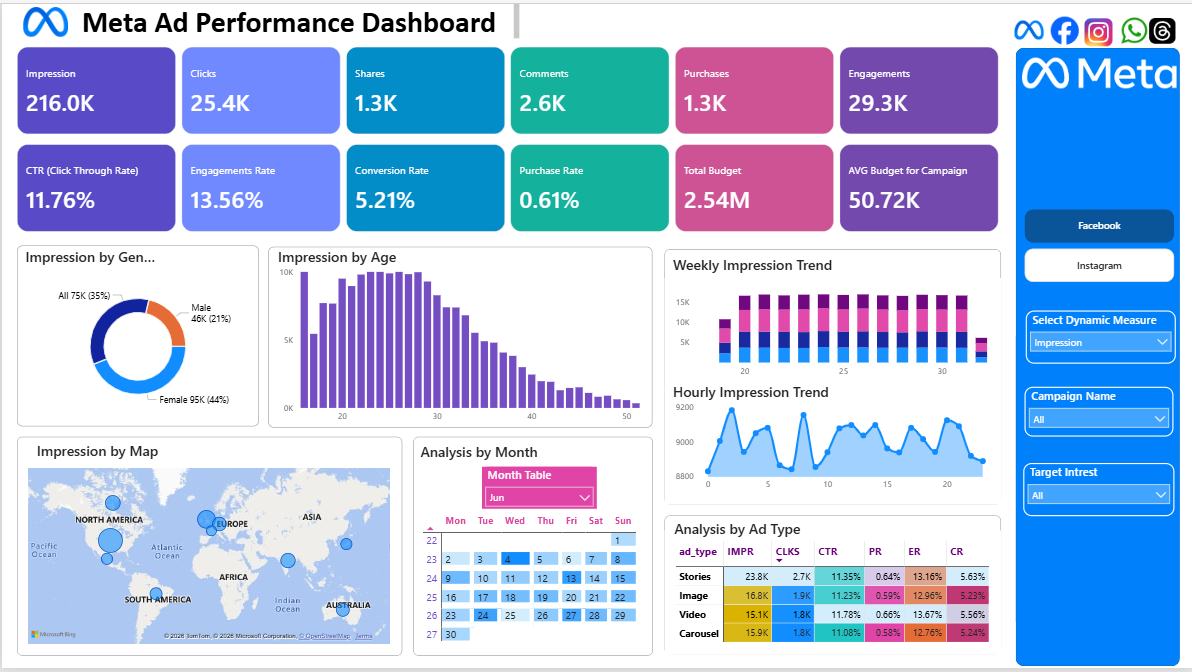

What the dashboard file says about the page in this screenshot:
{"tool":"powerbi","page":{"name":"Facebook","canvas":[1700,950],"ordinal":0},"visuals":[{"type":"textbox","box":[114.8,0,624.6,50.8],"z":0},{"type":"image","box":[29.5,1.6,63.9,50.8],"z":1000},{"type":"shape","box":[1447.3,62.9,238.8,887.4],"z":2000},{"type":"cardVisual","fields":{"Data":["ad_events.Impression","ad_events.Clicks","ad_events.Shares","ad_events.Comments","ad_events.Purchases","ad_events.Engagements"]},"box":[21,62.9,1406.9,125.8],"z":3000},{"type":"cardVisual","fields":{"Data":["ad_events.CTR (Click Through Rate)","ad_events.Engagements Rate","ad_events.Conversion Rate","ad_events.Purchase Rate","ad_events.Total Budget","ad_events.AVG Budget for Campaign"]},"box":[21,201.7,1406.9,125.8],"z":4000},{"type":"shape","box":[21.4,347,345.5,258.3],"z":5000},{"type":"slicer","fields":{"Values":["Select Dynamic Measure.Select Dynamic Measure"]},"box":[1461.8,438.9,214.6,75.8],"z":6000},{"type":"donutChart","fields":{"Category":["ads.target_gender"],"Y":["ad_events.Impression"]},"box":[21.4,385.2,345.5,210.9],"z":7000},{"type":"cardVisual","fields":{"Data":["ad_events.Gender Title"]},"box":[20.8,336.2,219.1,49.1],"z":8000},{"type":"shape","box":[380.6,348.5,548.7,258.3],"z":9000},{"type":"columnChart","fields":{"Category":["users.user_age"],"Y":["ad_events.Impression"]},"box":[380.6,360.7,548.7,258.3],"z":10000},{"type":"cardVisual","fields":{"Data":["ad_events.Age Title"]},"box":[381.4,335.6,220.3,50.8],"z":11000},{"type":"shape","box":[21,619.6,550.2,313],"z":12000},{"type":"map","fields":{"Category":["users.country"],"Size":["ad_events.Impression"]},"box":[21,650.2,548.6,282.4],"z":13000},{"type":"cardVisual","fields":{"Data":["ad_events.Map Title"]},"box":[36.7,614.5,343.9,47.4],"z":14000},{"type":"shape","box":[587.3,619.6,342.1,313],"z":15000},{"type":"pivotTable","fields":{"Columns":["Calender Table.Day Table"],"Rows":["Calender Table.Week Number"],"Values":["Min(Calender Table.Day Number)"]},"box":[585.7,716.4,343.7,216.2],"z":16000},{"type":"slicer","fields":{"Values":["Calender Table.Month Table"]},"box":[686.4,663.2,164.4,59.9],"z":17000},{"type":"cardVisual","fields":{"Data":["ad_events.Calendet Title"]},"box":[585.7,616.3,201.7,46.8],"z":18000},{"type":"shape","box":[947.1,351.7,480.8,364.6],"z":19000},{"type":"columnChart","fields":{"Category":["Calender Table.Week Number"],"Series":["ads.ad_type"],"Y":["ad_events.Impression"]},"box":[947.1,392.1,480.8,161.3],"z":20000},{"type":"cardVisual","fields":{"Data":["ad_events.Weekly Title"]},"box":[947.1,348.5,345.3,48.4],"z":21000},{"type":"areaChart","fields":{"Category":["ad_events.Event hour"],"Y":["ad_events.Impression"]},"box":[947.1,553.4,480.8,163],"z":22000},{"type":"cardVisual","fields":{"Data":["ad_events.hourly Title"]},"box":[947.1,534.1,345.3,38.7],"z":23000},{"type":"shape","box":[947.1,732.5,480.8,198.5],"z":24000},{"type":"pivotTable","fields":{"Rows":["ads.ad_type"],"Values":["ad_events.Impression","ad_events.Clicks","ad_events.CTR (Click Through Rate)","ad_events.Purchase Rate","ad_events.Engagements Rate","ad_events.Conversion Rate"]},"box":[947.1,753.5,480.8,177.5],"z":25000},{"type":"cardVisual","fields":{"Data":["ad_events.Mtrix type"]},"box":[947.5,723.2,255.2,52.2],"z":26000},{"type":"image","box":[1457,50,221,100],"z":27000},{"type":"slicer","fields":{"Values":["campaigns.name"]},"box":[1460.2,548.6,213,71],"z":28000},{"type":"slicer","fields":{"Values":["ads.target_interests"]},"box":[1458.6,656.7,216.2,75.8],"z":29000},{"type":"pageNavigator","box":[1460.7,294.6,214.3,105.4],"z":30000},{"type":"image","box":[1447.3,25.8,41.9,27.4],"z":31000},{"type":"image","box":[1498.9,17.7,40.3,43.6],"z":32000},{"type":"image","box":[1545.7,17.7,40.3,48.4],"z":33000},{"type":"image","box":[1597.3,17.7,38.7,43.6],"z":34000},{"type":"image","box":[1626.4,21,61.3,37.1],"z":35000}]}

Visuals, with their boxes in screenshot pixels (x1, y1, x2, y2), scaled from the page's 1700x950 canvas onto the 1192x672 screenshot:
textbox: (80,0,518,36)
image: (21,1,65,37)
shape: (1015,44,1182,671)
cardVisual - ad_events.Impression x ad_events.Clicks: (15,44,1001,133)
cardVisual - ad_events.CTR (Click Through Rate) x ad_events.Engagements Rate: (15,143,1001,232)
shape: (15,245,257,428)
slicer - Select Dynamic Measure.Select Dynamic Measure: (1025,310,1175,364)
donutChart - ads.target_gender x ad_events.Impression: (15,272,257,422)
cardVisual - ad_events.Gender Title: (15,238,168,273)
shape: (267,247,652,429)
columnChart - users.user_age x ad_events.Impression: (267,255,652,438)
cardVisual - ad_events.Age Title: (267,237,422,273)
shape: (15,438,401,660)
map - users.country x ad_events.Impression: (15,460,399,660)
cardVisual - ad_events.Map Title: (26,435,267,468)
shape: (412,438,652,660)
pivotTable - Calender Table.Day Table x Calender Table.Week Number: (411,507,652,660)
slicer - Calender Table.Month Table: (481,469,597,511)
cardVisual - ad_events.Calendet Title: (411,436,552,469)
shape: (664,249,1001,507)
columnChart - Calender Table.Week Number x ads.ad_type: (664,277,1001,391)
cardVisual - ad_events.Weekly Title: (664,247,906,281)
areaChart - ad_events.Event hour x ad_events.Impression: (664,391,1001,507)
cardVisual - ad_events.hourly Title: (664,378,906,405)
shape: (664,518,1001,659)
pivotTable - ads.ad_type x ad_events.Impression: (664,533,1001,659)
cardVisual - ad_events.Mtrix type: (664,512,843,548)
image: (1022,35,1177,106)
slicer - campaigns.name: (1024,388,1173,438)
slicer - ads.target_interests: (1023,465,1174,518)
pageNavigator: (1024,208,1174,283)
image: (1015,18,1044,38)
image: (1051,13,1079,43)
image: (1084,13,1112,47)
image: (1120,13,1147,43)
image: (1140,15,1183,41)
